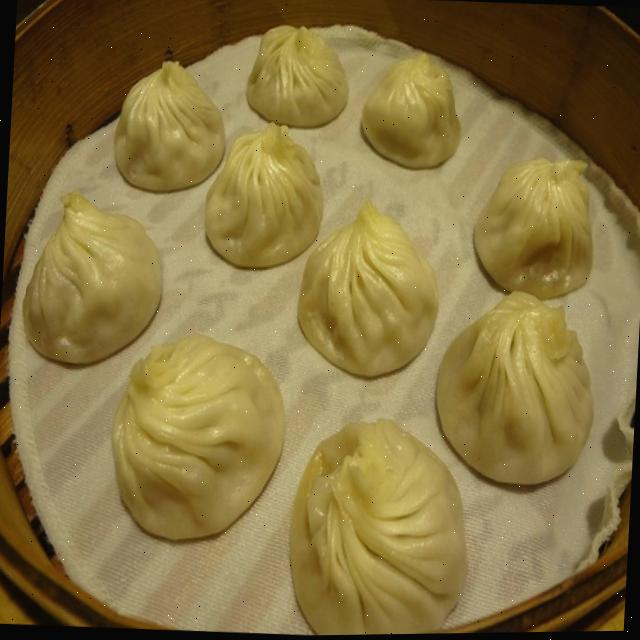带馅早点: (25, 15, 622, 639)
